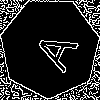A: (24, 22, 80, 74)
